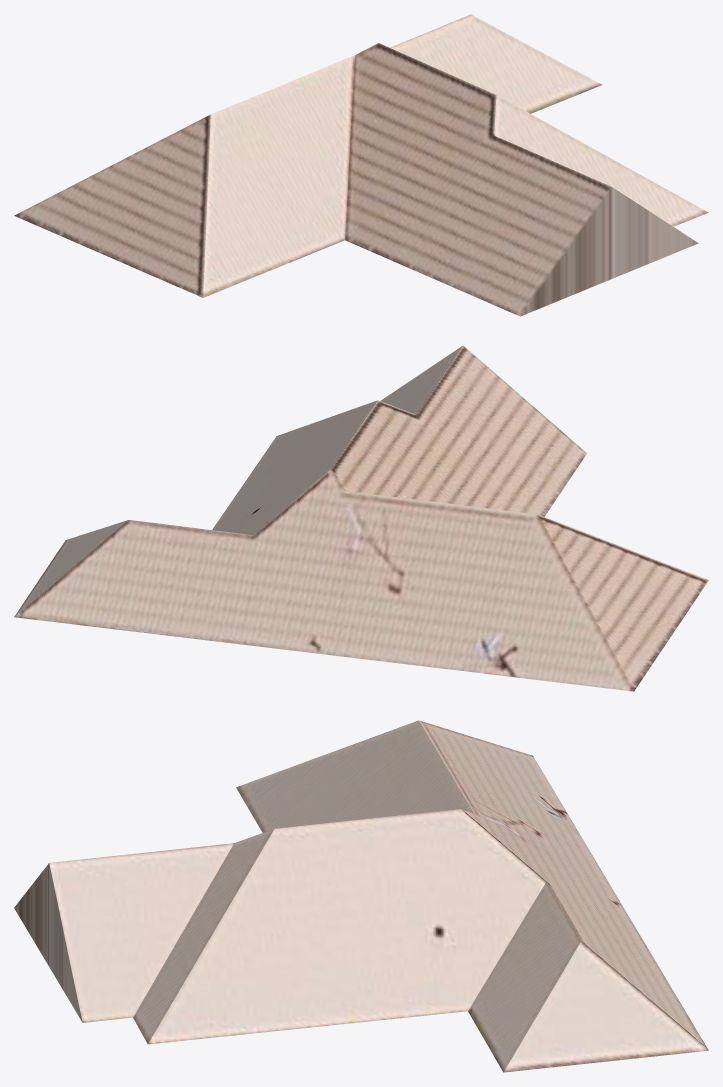
File: BK39_500_018031_0002_roof.obj
3 renders of one model, top to bottom at view 1: azimuth 30°, elevation 25°; view 2: azimuth 150°, elevation 25°; view 3: azimuth 270°, elevation 25°, orthographic. The views are drawn at different scales.
Parts seen in each view (by area): view 1: BK39_500_018031_0002_roof; view 2: BK39_500_018031_0002_roof; view 3: BK39_500_018031_0002_roof.
Boxes of the visible parts, box(x1,y1,x2,y2) form: BK39_500_018031_0002_roof: box(14, 14, 708, 316); BK39_500_018031_0002_roof: box(14, 345, 708, 691); BK39_500_018031_0002_roof: box(14, 720, 708, 1072).
Size of the model in its own units: 366 by 70 by 339.
Materials: 1 (1 with a texture image).
